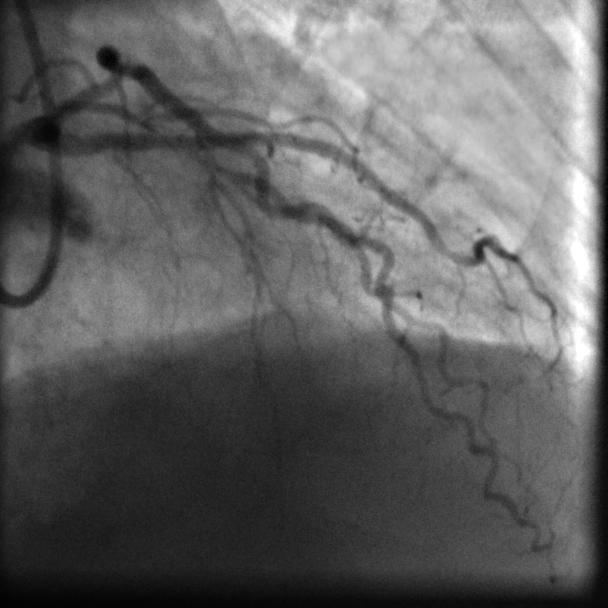Stenosis: (107, 34, 135, 81)
